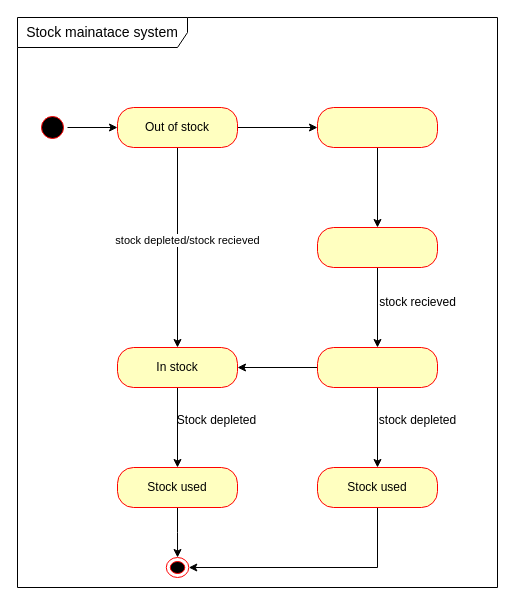
This 515x605 diagram has some shape labels left out. Each missing label, with the centre of its shape:
stock In Transit: (377,247)
stock orders: (377,127)
Stock reserved: (377,367)
